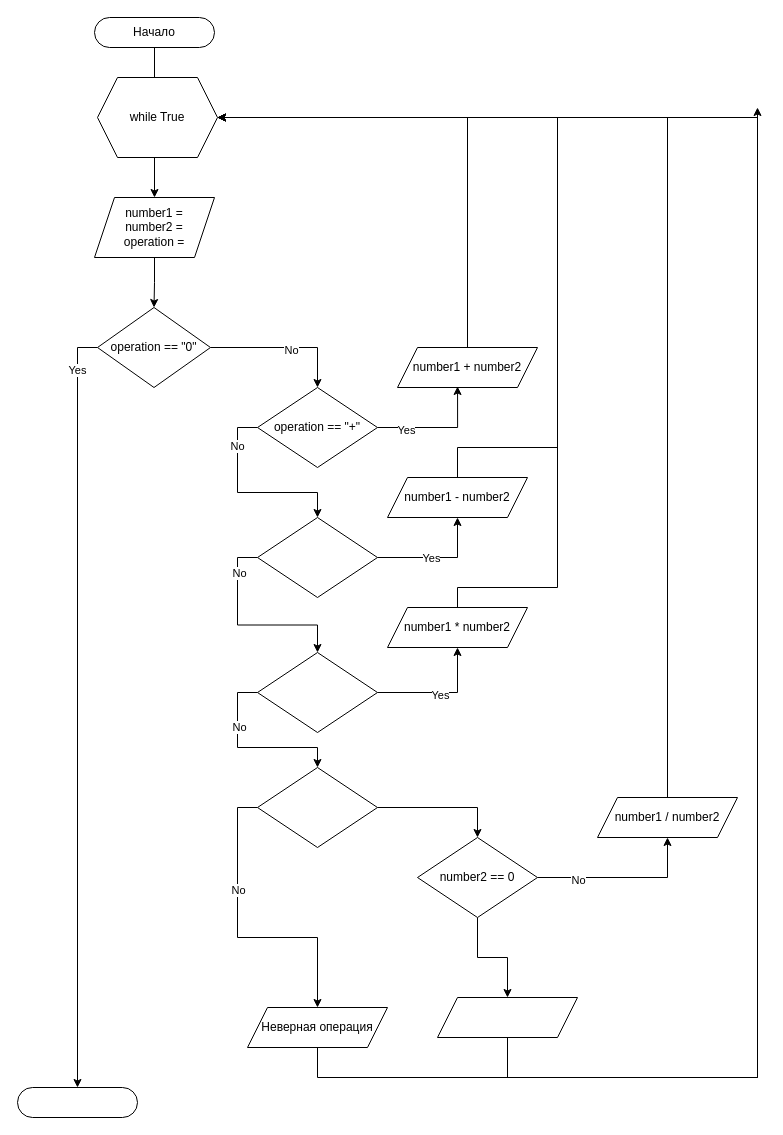
This 783x1135 diagram has some shape labels left out. The shapes that lost their labels are listed below. From the top down, each one's box as (x1, y1, x2, y2) in pixels, then its label:
(256, 516, 378, 598): operation == "-"
(256, 652, 378, 732): operation == "*"
(256, 766, 378, 848): operation == "/"
(436, 996, 578, 1038): Деление на ноль
(16, 1086, 138, 1118): Конец
